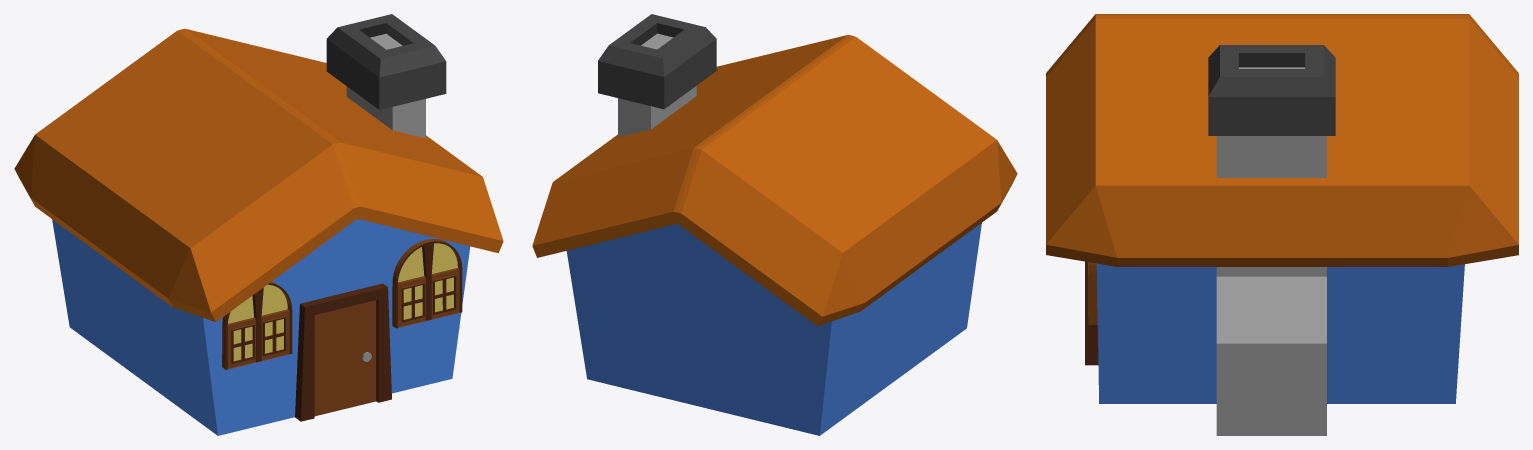
Rendered from SagradoCasaAzul.fbx.
The picture shows the model from 3 angles, left to right: view 1: azimuth 30°, elevation 25°; view 2: azimuth 150°, elevation 25°; view 3: azimuth 270°, elevation 25°; orthographic projection. The views are drawn at different scales.
Parts seen in each view (by area): view 1: CasaAzul; view 2: CasaAzul; view 3: CasaAzul.
Part boxes in pixels (x1,y1,x2,y2): CasaAzul: (14,14,503,435); CasaAzul: (532,14,1017,435); CasaAzul: (1046,14,1518,435).
Bounding box in the file's own units: 1045 × 866 × 1070.
